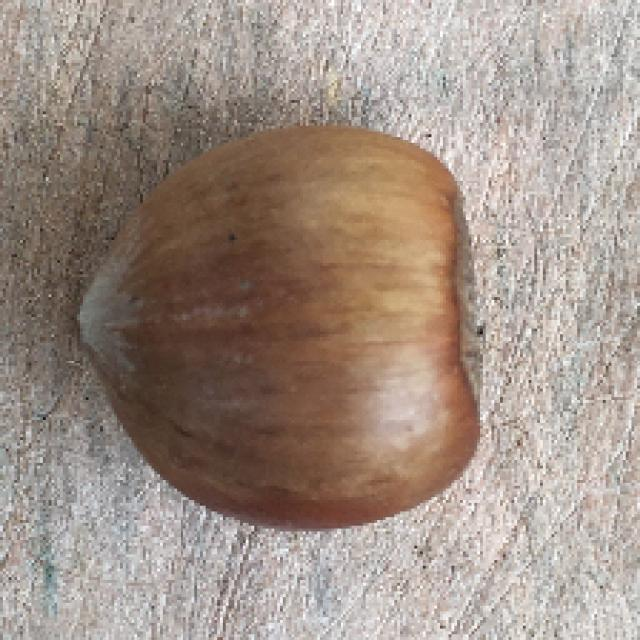DamagedHazelnut: (68, 127, 489, 536)
